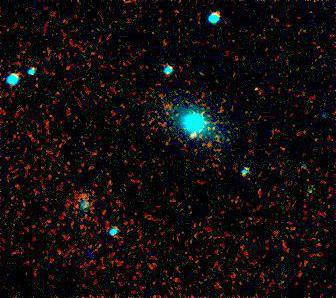star: (180, 120, 210, 150)
